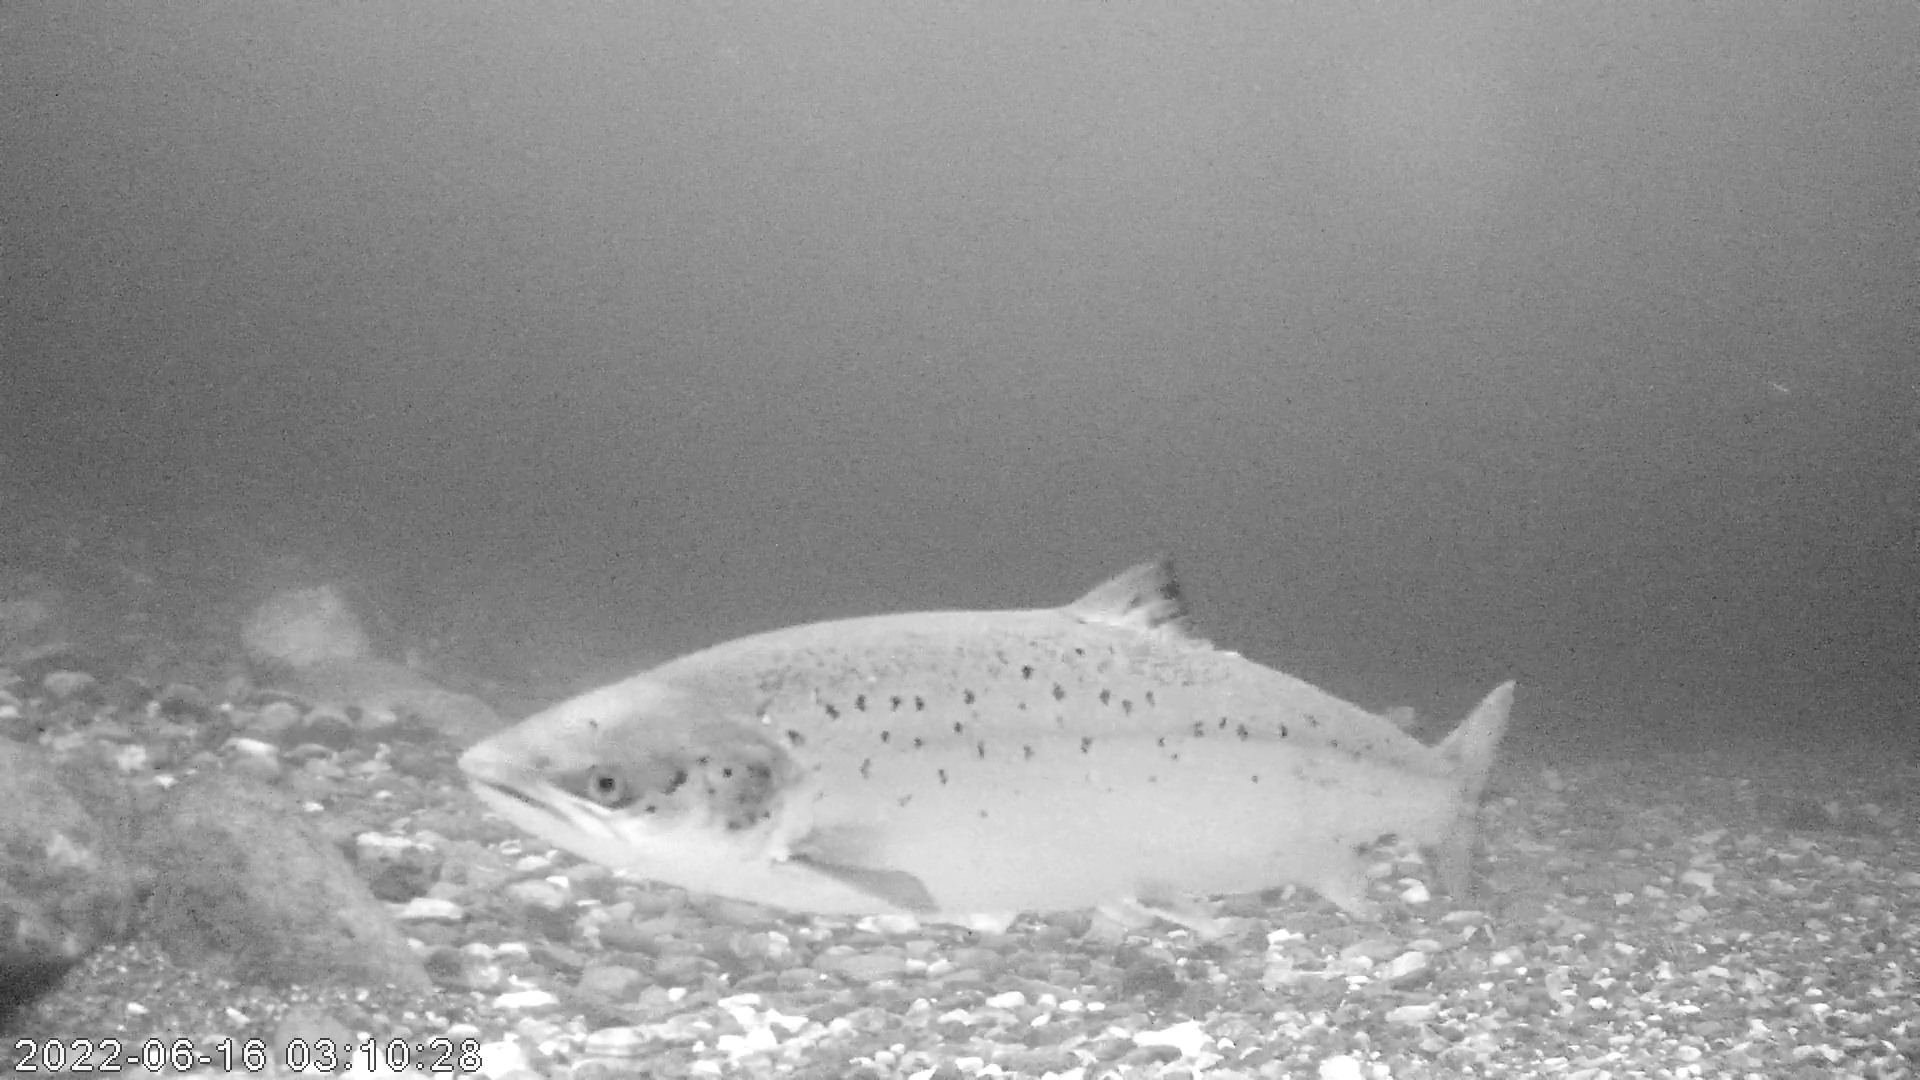salmon: (458, 553, 1518, 920)
